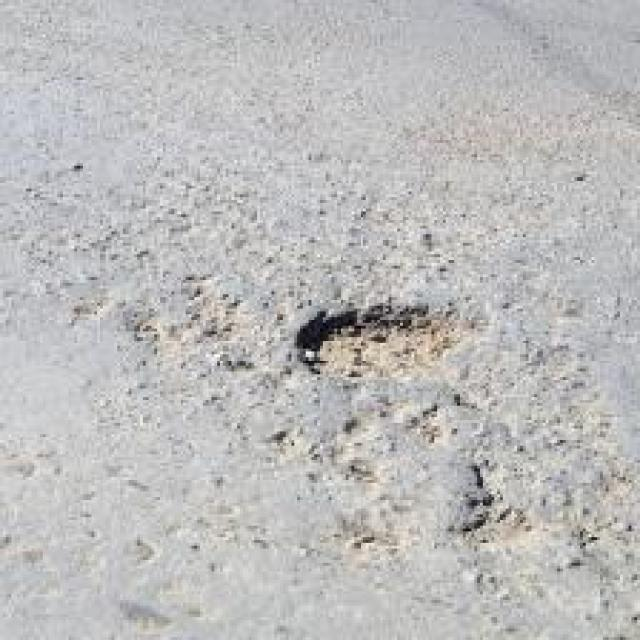BACHE: (296, 305, 463, 377)
PIEL DE COCODRILO: (267, 351, 639, 603), (21, 184, 311, 394)
